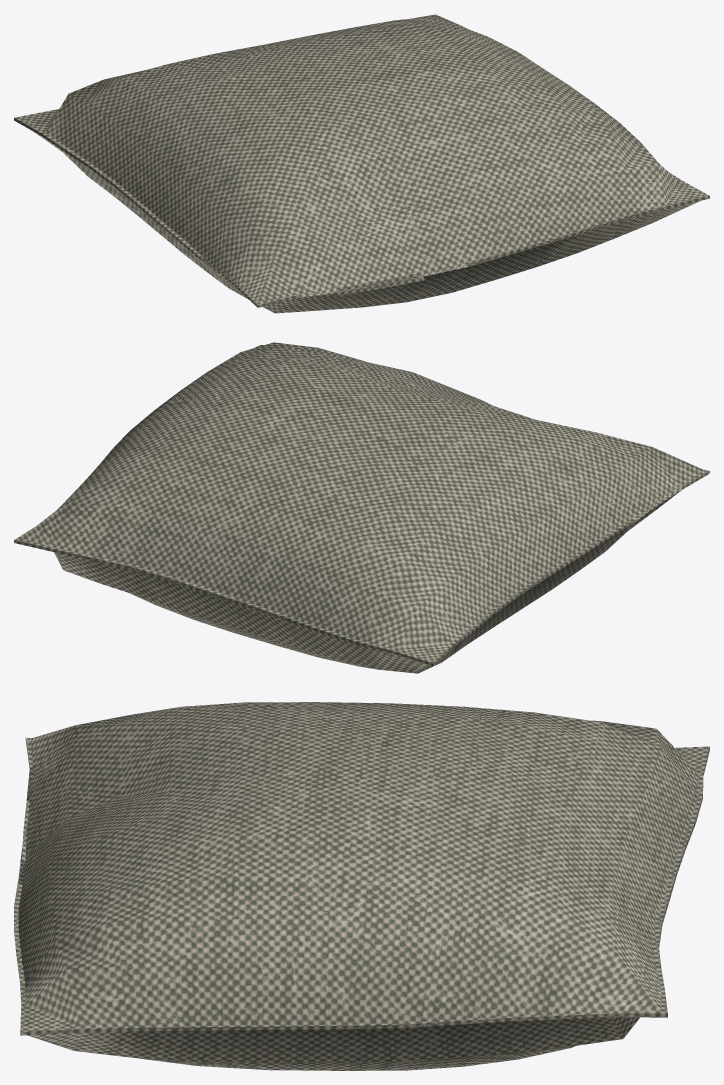
File: Pillows1.fbx
3 renders of one model, top to bottom at view 1: azimuth 30°, elevation 25°; view 2: azimuth 150°, elevation 25°; view 3: azimuth 270°, elevation 25°, orthographic. The views are drawn at different scales.
Parts seen in each view (by area): view 1: Pillow.002; view 2: Pillow.002; view 3: Pillow.002.
Boxes of the visible parts, x1,y1,x2,y2 form: Pillow.002: (14,14,709,313); Pillow.002: (14,342,709,673); Pillow.002: (14,702,709,1070).
Bounding box in the file's own units: 60.84 × 23.26 × 60.56.
1 material, 1 textured.
